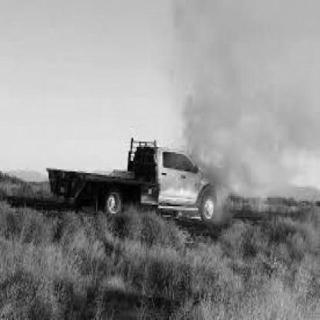Smoke: (187, 30, 303, 180)
